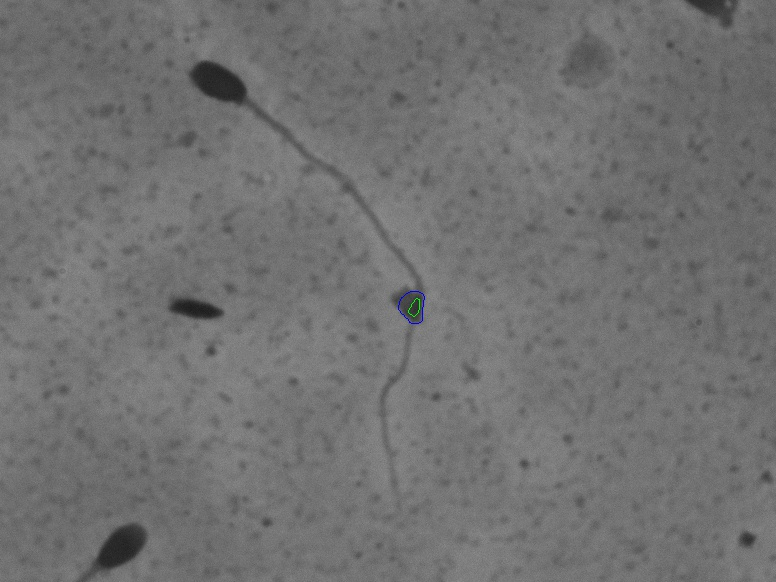Abnormal: (176, 36, 510, 514)
